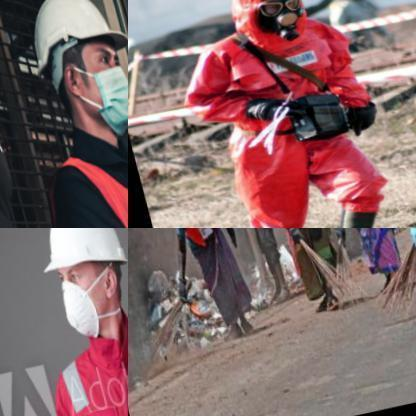vest: (178, 6, 396, 227), (16, 308, 127, 415), (52, 124, 127, 227), (164, 228, 224, 249)
